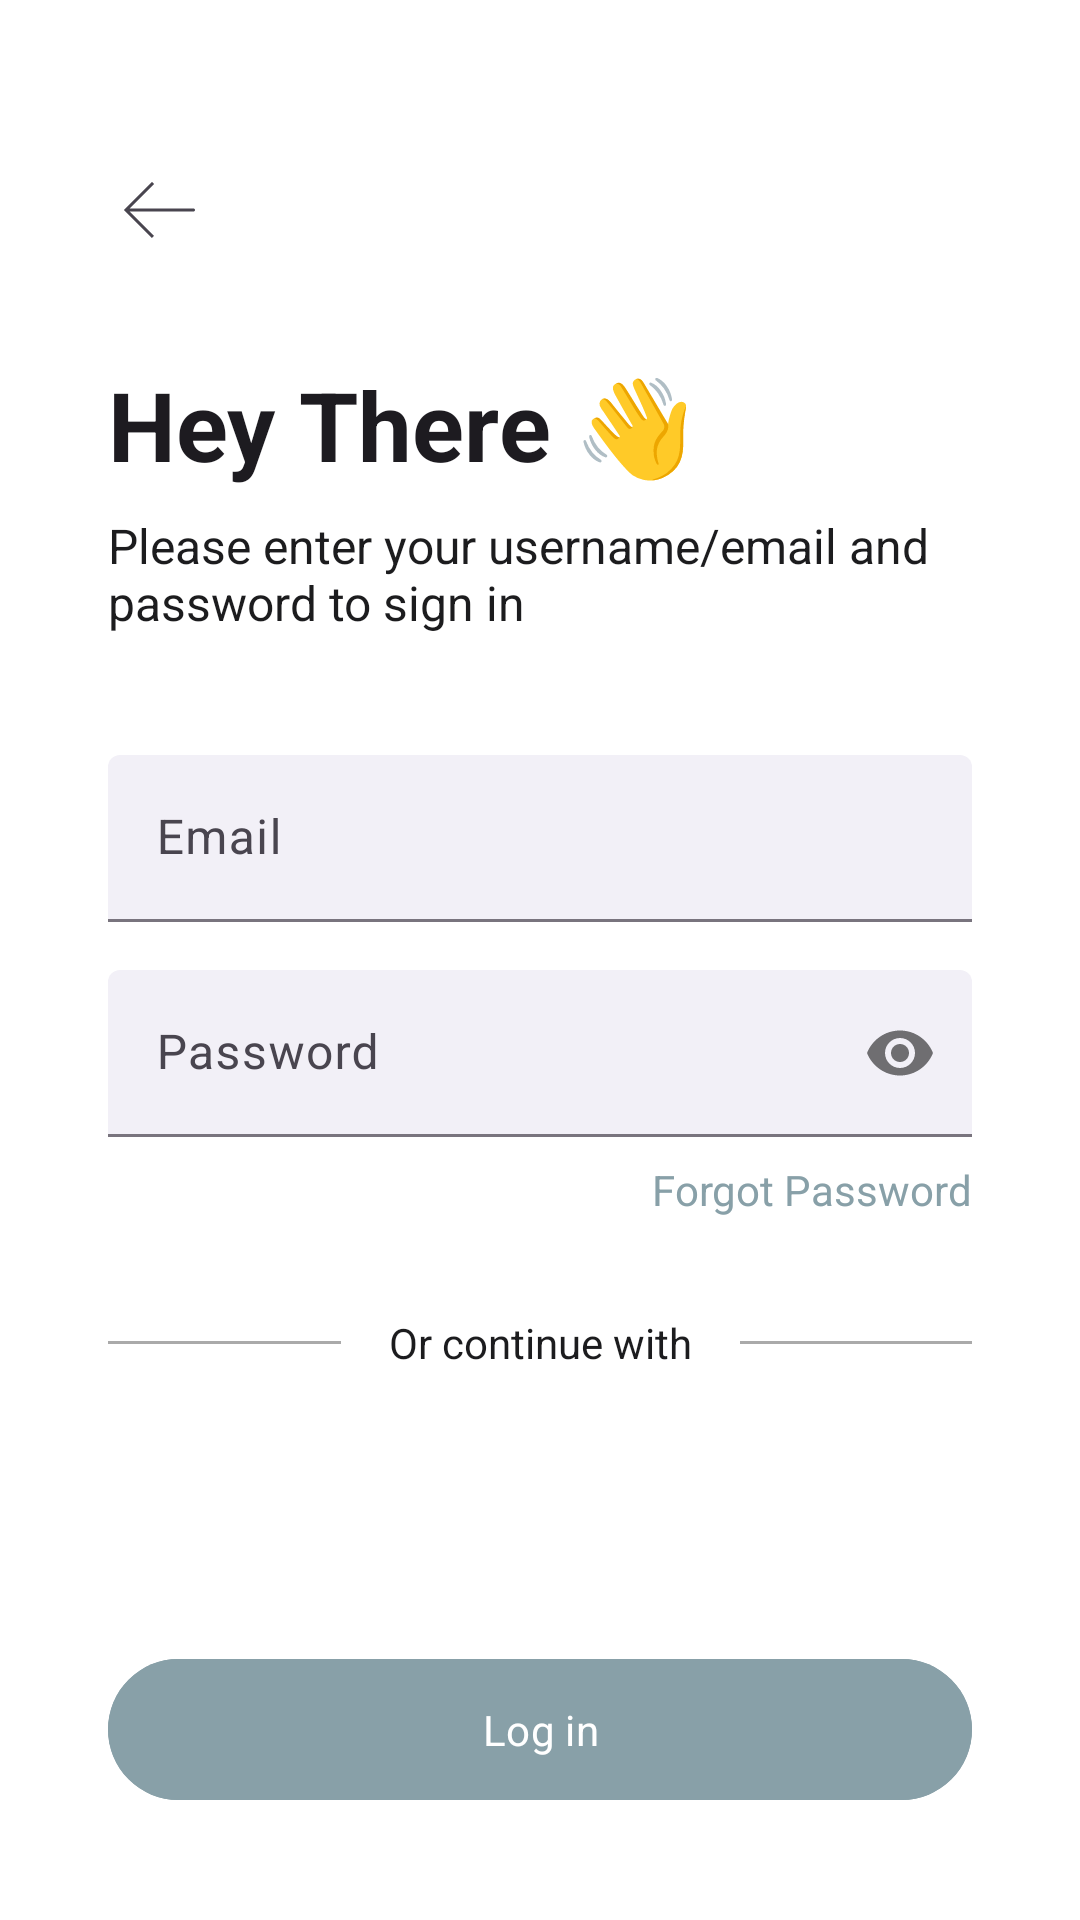

Screen size 1080w x 1920h. Icon name, then its box in pixels as (x1, y1, x2, y2):
Back button: (124, 182, 195, 238)
